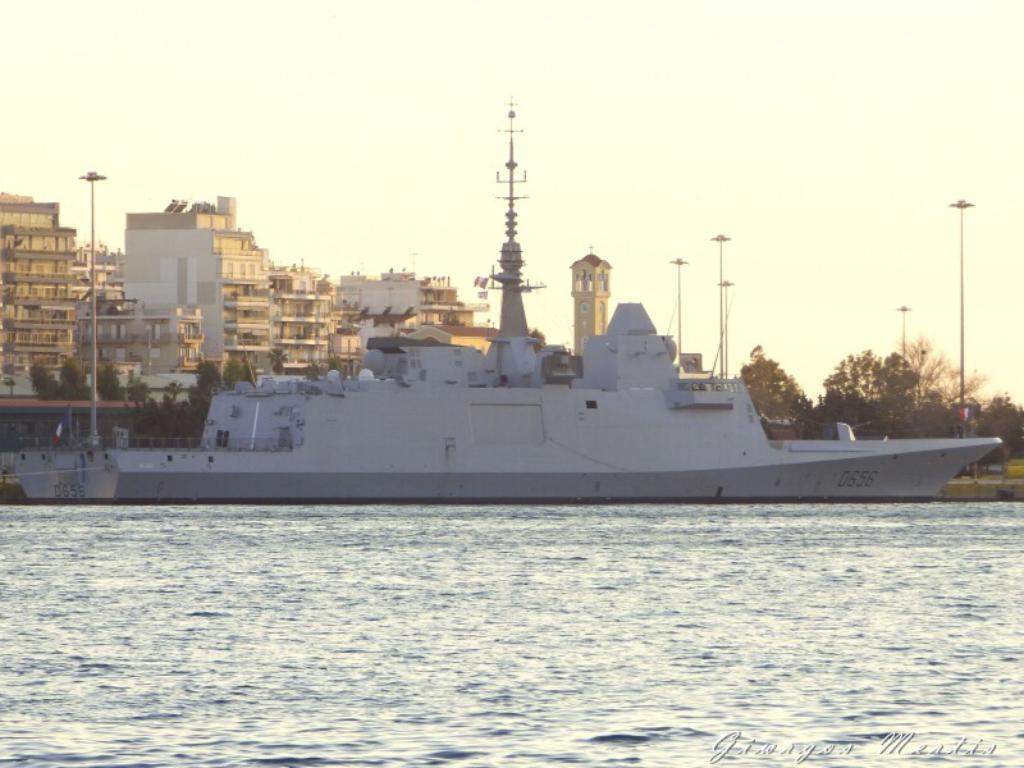Warship: (0, 88, 1010, 506)
